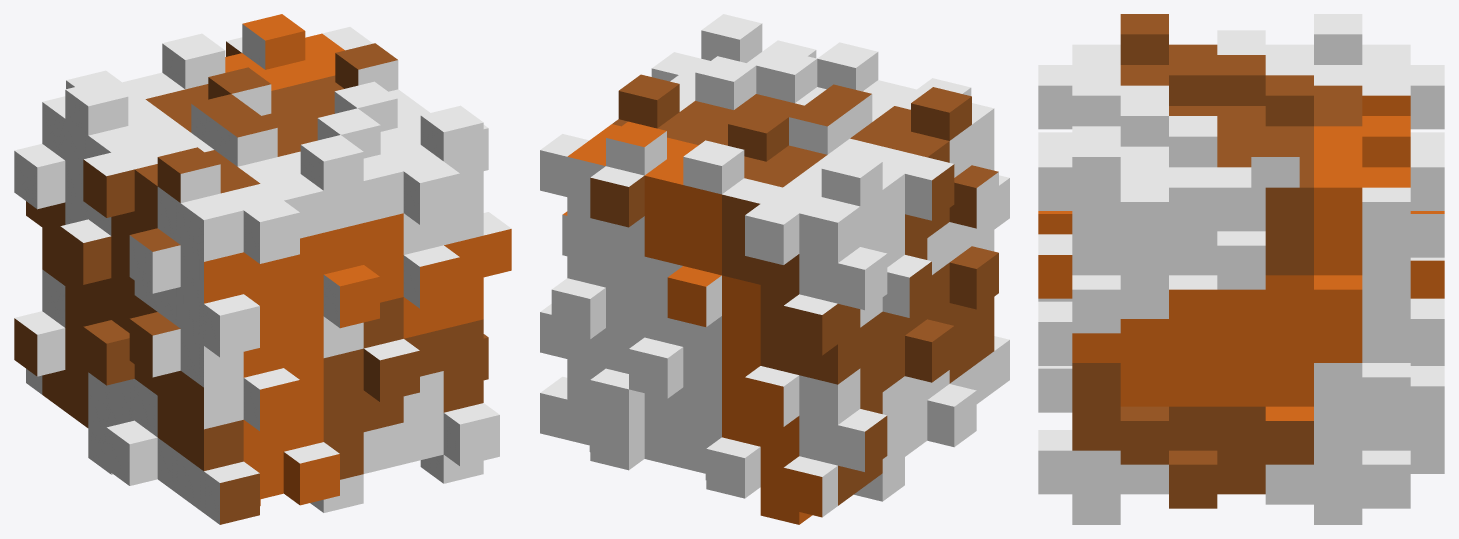
Rendered from Potassium.fbx.
3 views of the same model, side by side, from view 1: azimuth 30°, elevation 25°; view 2: azimuth 150°, elevation 25°; view 3: azimuth 270°, elevation 25° (orthographic). The views are drawn at different scales.
Visible parts, largest first — view 1: MeshPotassium, MeshDetail, MeshBase; view 2: MeshPotassium, MeshDetail, MeshBase; view 3: MeshPotassium, MeshBase, MeshDetail.
Part boxes in pixels (box(x1,y1,x2,y2)): MeshPotassium: box(14, 24, 511, 524); MeshDetail: box(14, 41, 488, 524); MeshBase: box(204, 14, 511, 505); MeshPotassium: box(540, 14, 1009, 516); MeshDetail: box(590, 74, 998, 505); MeshBase: box(563, 121, 822, 524); MeshPotassium: box(1038, 14, 1444, 524); MeshBase: box(1038, 95, 1444, 420); MeshDetail: box(1072, 14, 1362, 508).
Size of the model in its own units: 240 by 240 by 240.
